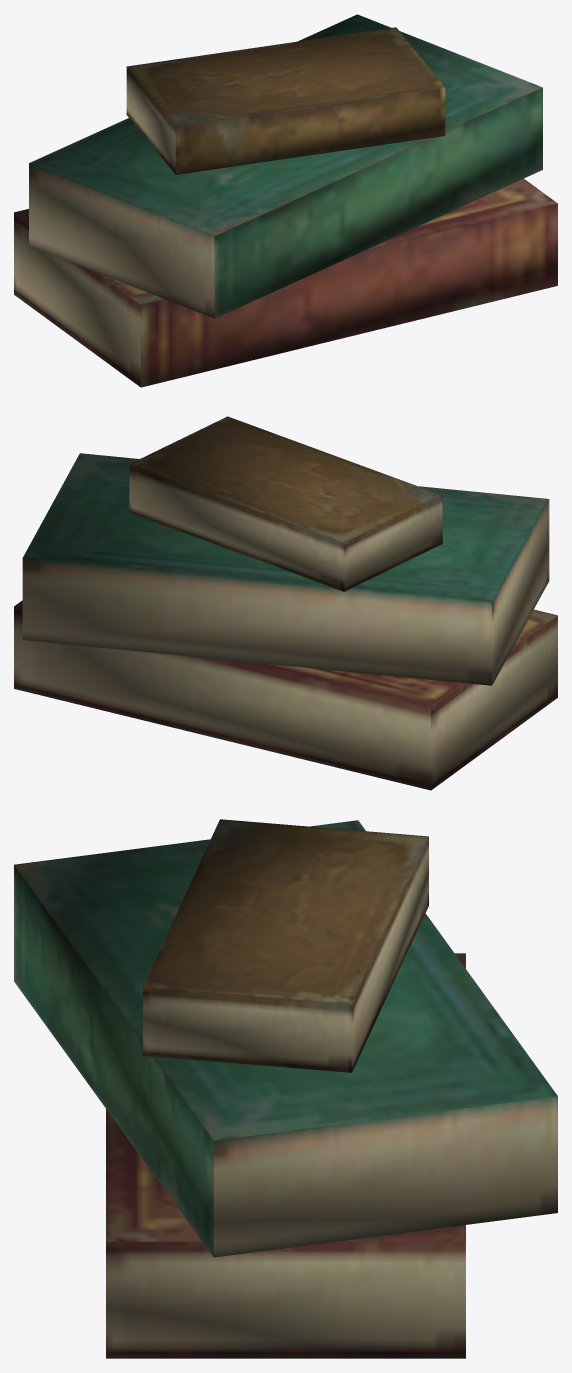
File: generalbookstackshort01.obj
The picture shows the model from 3 angles, top to bottom: view 1: azimuth 30°, elevation 25°; view 2: azimuth 150°, elevation 25°; view 3: azimuth 270°, elevation 25°; orthographic projection. The views are drawn at different scales.
Visible parts, largest first — view 1: generalbookstackshort01; view 2: generalbookstackshort01; view 3: generalbookstackshort01.
Boxes of the visible parts, bbox=[...] form: generalbookstackshort01: bbox=[14, 14, 557, 387]; generalbookstackshort01: bbox=[14, 416, 557, 790]; generalbookstackshort01: bbox=[14, 819, 557, 1358].
Bounding box in the file's own units: 0.7949 × 0.3501 × 0.5701.
1 material, 1 textured.
